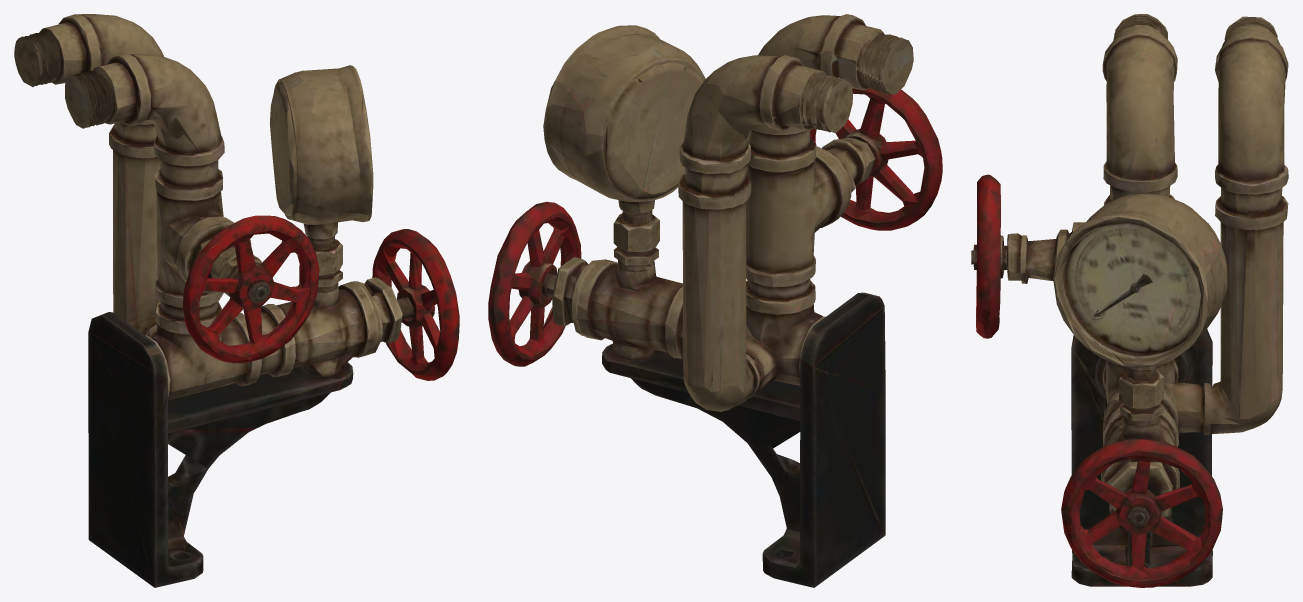
File: valves.glb
3 renders of one model, left to right at view 1: azimuth 30°, elevation 25°; view 2: azimuth 150°, elevation 25°; view 3: azimuth 270°, elevation 25°, orthographic. The views are drawn at different scales.
Visible parts, largest first — view 1: Mesh_0; view 2: Mesh_0; view 3: Mesh_0.
Part boxes in pixels (x1,y1,x2,y2): Mesh_0: [14, 14, 459, 587]; Mesh_0: [488, 14, 942, 587]; Mesh_0: [971, 14, 1288, 587].
Bounding box in the file's own units: 1.39 × 1.9 × 1.03.
Materials: 1 (1 with a texture image).
